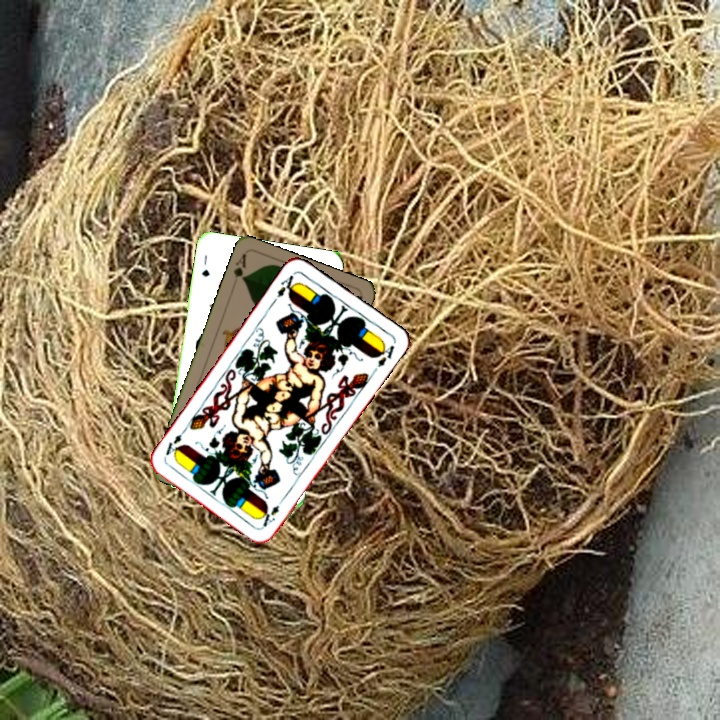EA: (258, 494, 287, 530), (273, 271, 300, 300)
GA: (229, 250, 249, 284)
GU: (198, 251, 212, 279)
